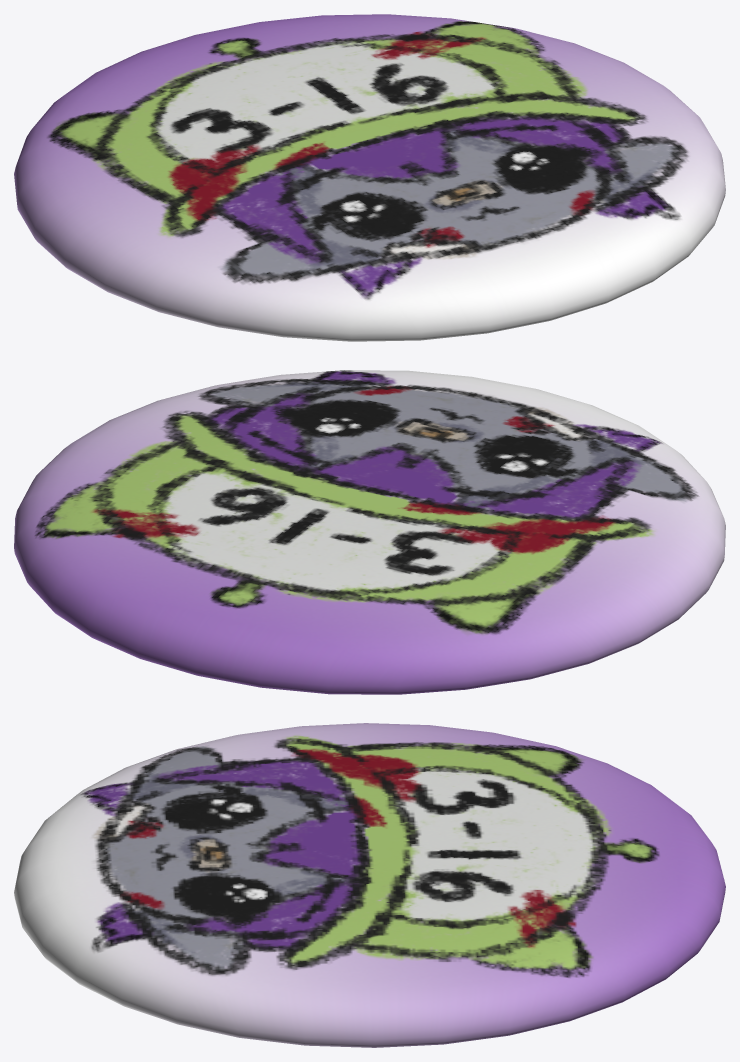
3 views of the same model, one above another, from view 1: azimuth 30°, elevation 25°; view 2: azimuth 150°, elevation 25°; view 3: azimuth 270°, elevation 25° (orthographic).
Parts seen in each view (by area): view 1: Button_Pin; view 2: Button_Pin; view 3: Button_Pin.
Boxes of the visible parts, x1=… form: Button_Pin: x1=14, y1=14, x2=725, y2=341; Button_Pin: x1=14, y1=370, x2=725, y2=694; Button_Pin: x1=14, y1=723, x2=725, y2=1047.
Bounding box in the file's own units: 0.0629 × 0.00761 × 0.0629.
3 materials, 2 textured.
